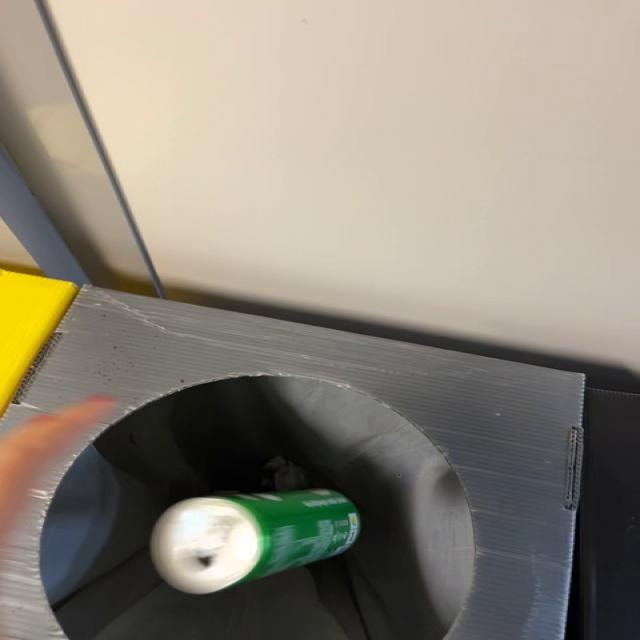bin: (3, 287, 583, 640)
metal: (152, 489, 361, 596)
